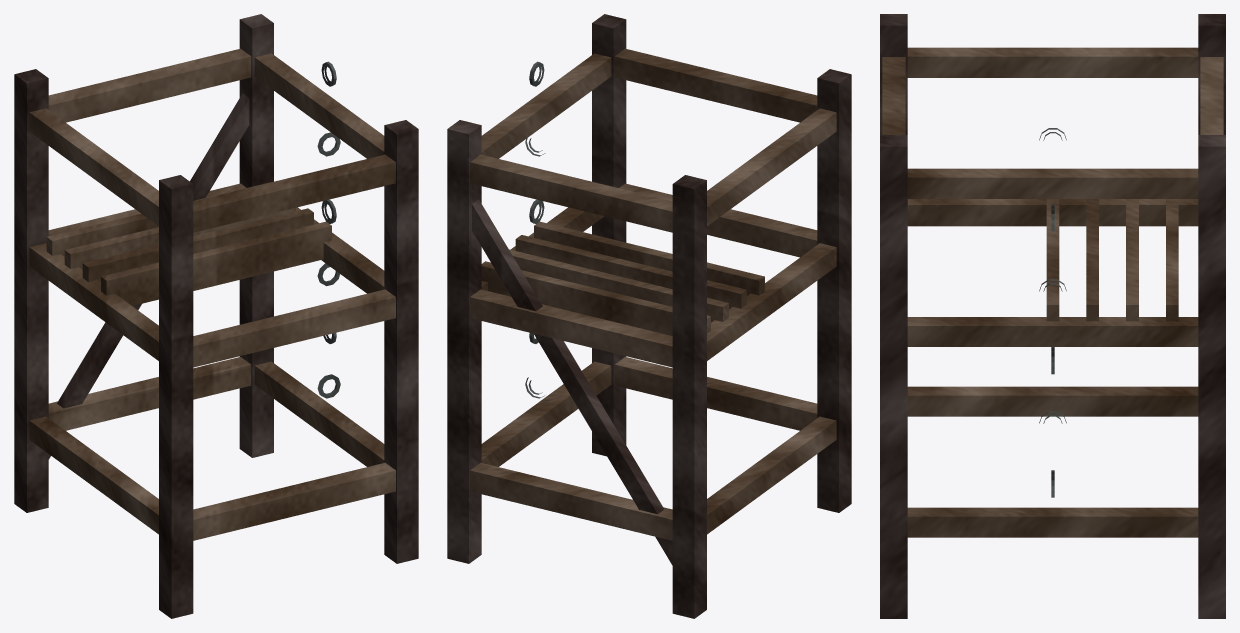
The model's file is 0435_scaffolding_10.glb.
The picture shows the model from 3 angles, left to right: view 1: azimuth 30°, elevation 25°; view 2: azimuth 150°, elevation 25°; view 3: azimuth 270°, elevation 25°; orthographic projection. The views are drawn at different scales.
Parts seen in each view (by area): view 1: wood, wood_dark, iron; view 2: wood, wood_dark, iron; view 3: wood, wood_dark, iron.
Boxes of the visible parts, bbox=[...] form: wood: bbox=[29, 48, 395, 540]; wood_dark: bbox=[14, 14, 418, 618]; iron: bbox=[317, 61, 340, 398]; wood: bbox=[470, 48, 836, 540]; wood_dark: bbox=[447, 14, 851, 618]; iron: bbox=[525, 61, 545, 398]; wood: bbox=[882, 47, 1223, 537]; wood_dark: bbox=[880, 14, 1225, 618]; iron: bbox=[1039, 128, 1066, 497].
Size of the model in its own units: 1.48 by 2.51 by 1.63.
3 materials, 3 textured.
